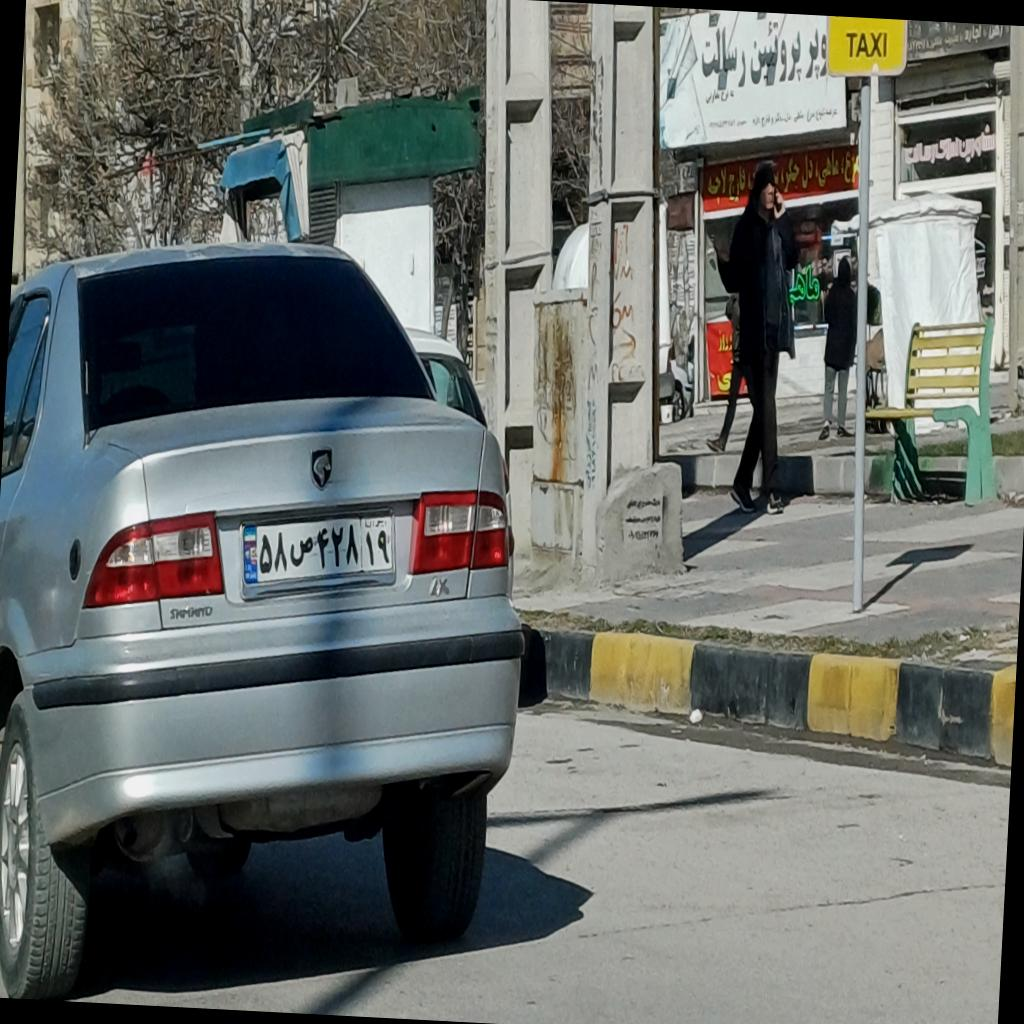Plates: (239, 506, 397, 597)
